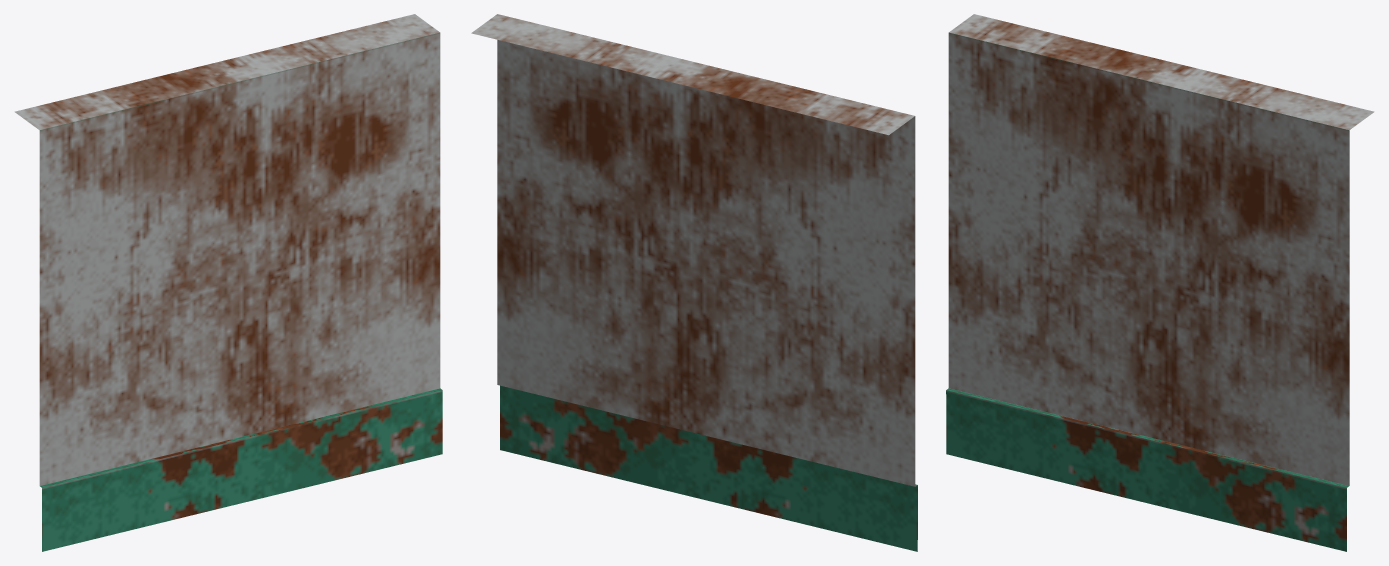
File: General_Wall.fbx
The picture shows the model from 3 angles, left to right: view 1: azimuth 30°, elevation 25°; view 2: azimuth 150°, elevation 25°; view 3: azimuth 330°, elevation 25°; orthographic projection. The views are drawn at different scales.
Visible parts, largest first — view 1: Cube; view 2: Cube; view 3: Cube.
Part boxes in pixels (<box>): Cube: <box>14,14,442,551</box>; Cube: <box>471,14,917,551</box>; Cube: <box>946,14,1374,551</box>.
Bounding box in the file's own units: 200 × 200 × 24.11.
1 material, 1 textured.
